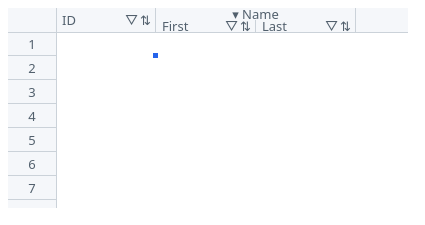
Scenario: LatticaGrid multi-level headers › renders group headers and toggles collapse on click
This screenshot has width=425, height=225.
Expected: the column heading "First" is shown, [162,17,188,33]
// Toggling the collapsible group hides the 'open'-only child.
Click the column heading "▾ Name": (256, 14) [156,8,356,20]
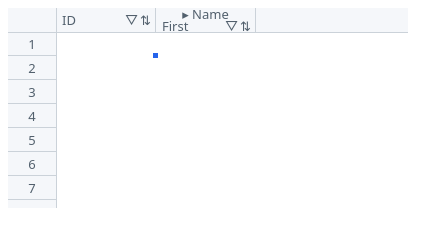
Now the column heading "Last" is gone
